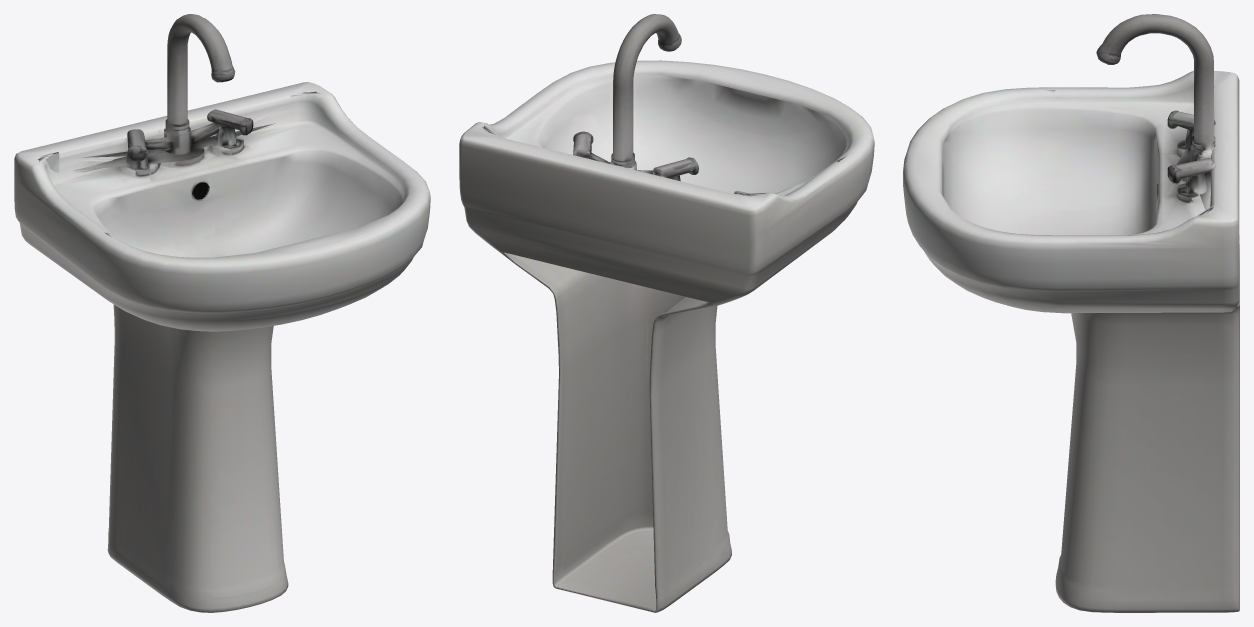
File: Appliances__wash_basin_realistic_style_d750ce2f_v2.cluster.glb
The picture shows the model from 3 angles, left to right: view 1: azimuth 30°, elevation 25°; view 2: azimuth 150°, elevation 25°; view 3: azimuth 270°, elevation 25°; orthographic projection. The views are drawn at different scales.
Visible parts, largest first — view 1: mesh_input; view 2: mesh_input; view 3: mesh_input.
Part boxes in pixels (x1=…): mesh_input: x1=14, y1=14, x2=430, y2=612; mesh_input: x1=459, y1=14, x2=874, y2=612; mesh_input: x1=903, y1=14, x2=1239, y2=612.
Size of the model in its own units: 1.12 by 1.9 by 1.02.
Materials: 1 (1 with a texture image).
